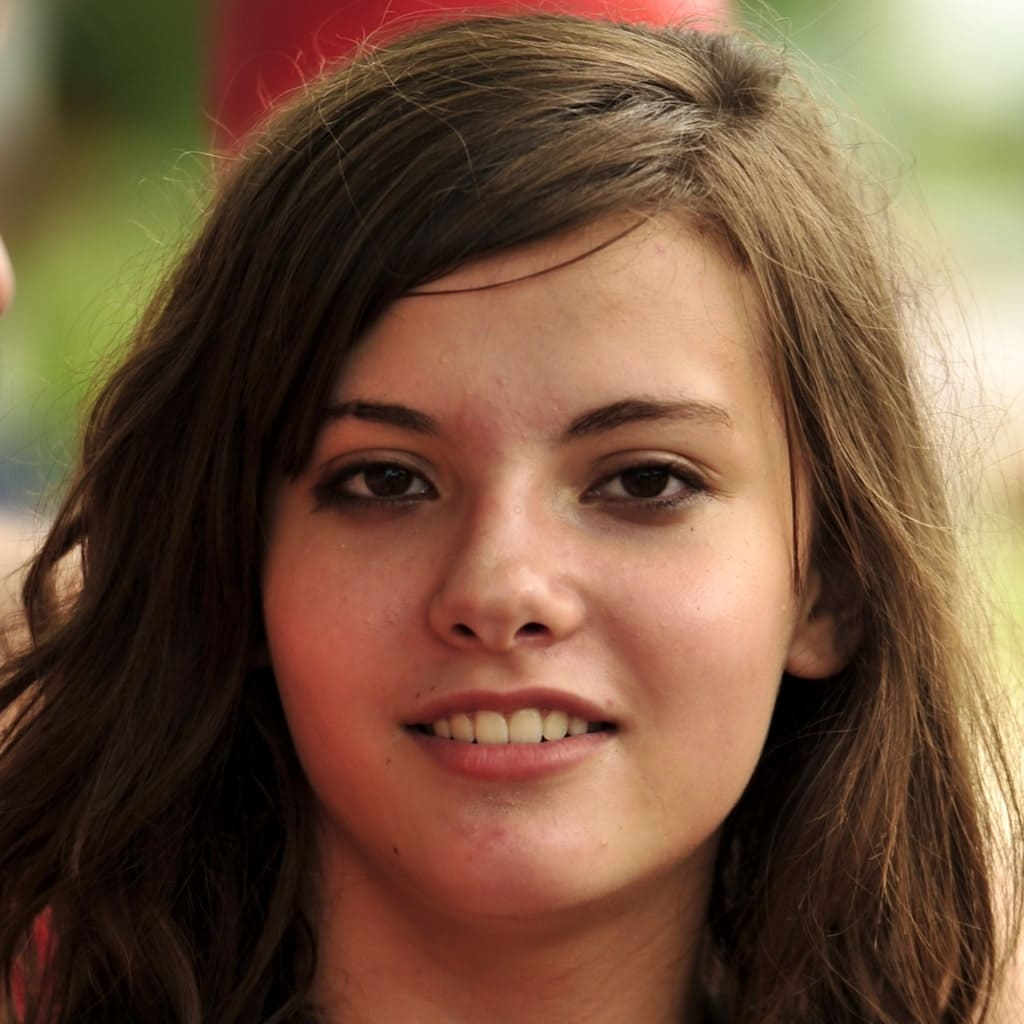without_mask: (275, 348, 775, 820)
